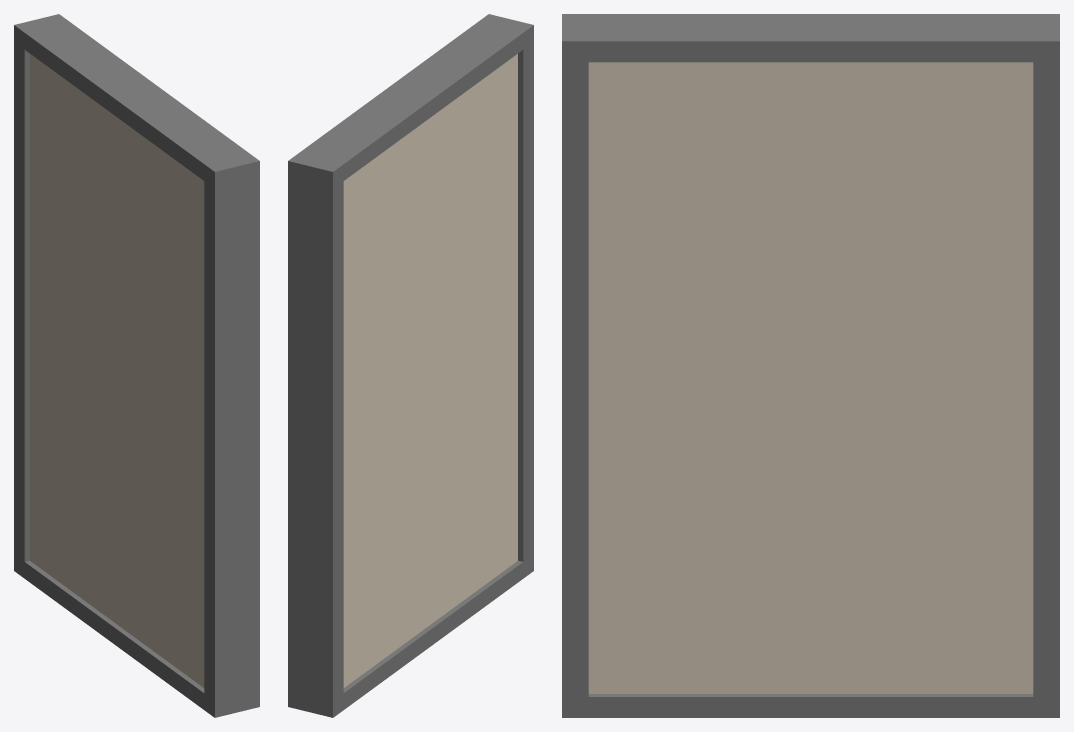
File: door_test1.fbx
The picture shows the model from 3 angles, left to right: view 1: azimuth 30°, elevation 25°; view 2: azimuth 150°, elevation 25°; view 3: azimuth 270°, elevation 25°; orthographic projection. The views are drawn at different scales.
Parts seen in each view (by area): view 1: Cube.003, Cube.001; view 2: Cube.003, Cube.001; view 3: Cube.003, Cube.001.
Part boxes in pixels (box(x1,y1,x2,y2)): Cube.003: box(30, 54, 204, 687); Cube.001: box(14, 14, 259, 717); Cube.003: box(343, 54, 517, 687); Cube.001: box(288, 14, 533, 717); Cube.003: box(588, 62, 1033, 693); Cube.001: box(562, 14, 1059, 717).
Bounding box in the file's own units: 51.84 × 600 × 400.
